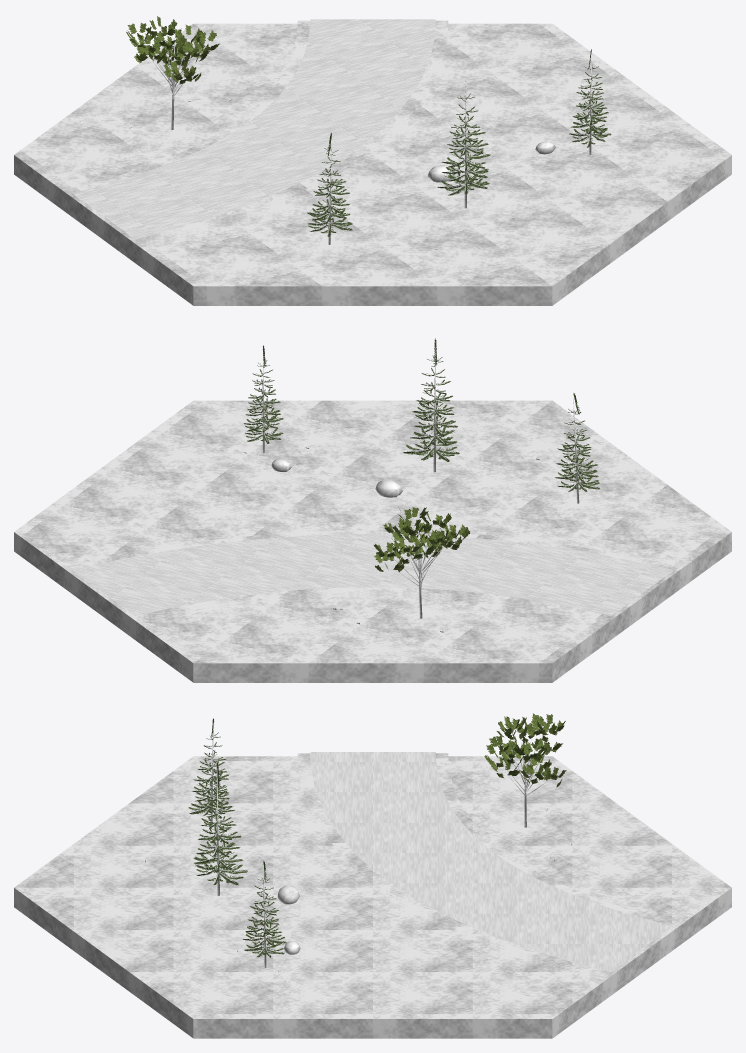
The model's file is rio_curvo.glb.
3 views of the same model, one above another, from view 1: azimuth 30°, elevation 25°; view 2: azimuth 150°, elevation 25°; view 3: azimuth 270°, elevation 25° (orthographic).
Parts seen in each view (by area): view 1: rio_curvo.004; view 2: rio_curvo.004; view 3: rio_curvo.004.
Boxes of the visible parts, <box> form: rio_curvo.004: <box>14,16,731,305</box>; rio_curvo.004: <box>14,338,731,682</box>; rio_curvo.004: <box>14,713,731,1038</box>.
Size of the model in its own units: 3.46 by 0.9495 by 4.
Materials: 6 (6 with a texture image).
